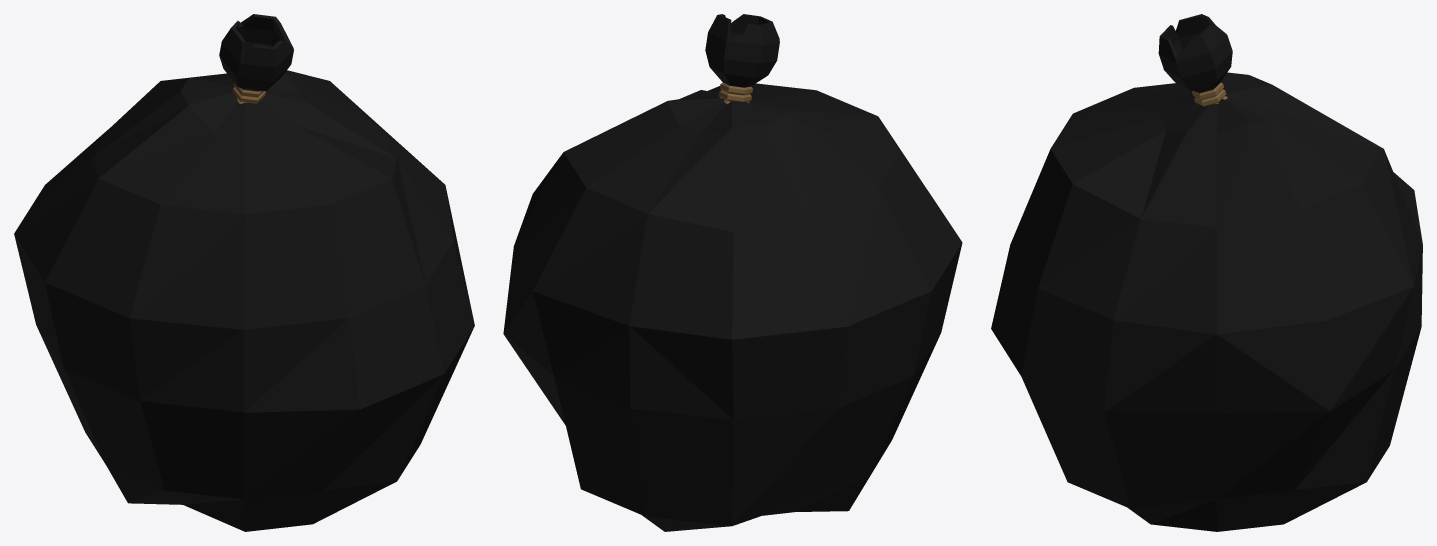
File: Trash Bag.fbx
The picture shows the model from 3 angles, left to right: view 1: azimuth 30°, elevation 25°; view 2: azimuth 150°, elevation 25°; view 3: azimuth 270°, elevation 25°; orthographic projection.
Visible parts, largest first — view 1: Trash Bag; view 2: Trash Bag; view 3: Trash Bag.
Part boxes in pixels (<box>): Trash Bag: <box>14,14,474,531</box>; Trash Bag: <box>503,14,962,531</box>; Trash Bag: <box>991,14,1422,531</box>.
Bounding box in the file's own units: 105 × 99.71 × 121.
